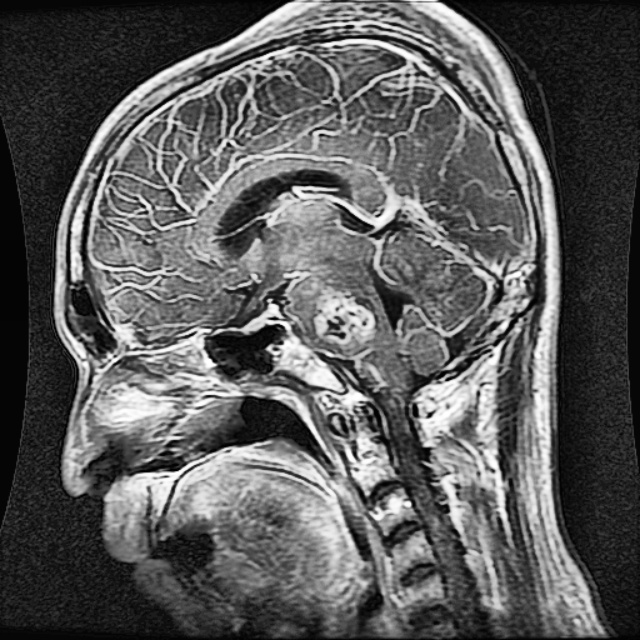Meningioma: (315, 289, 378, 348)
